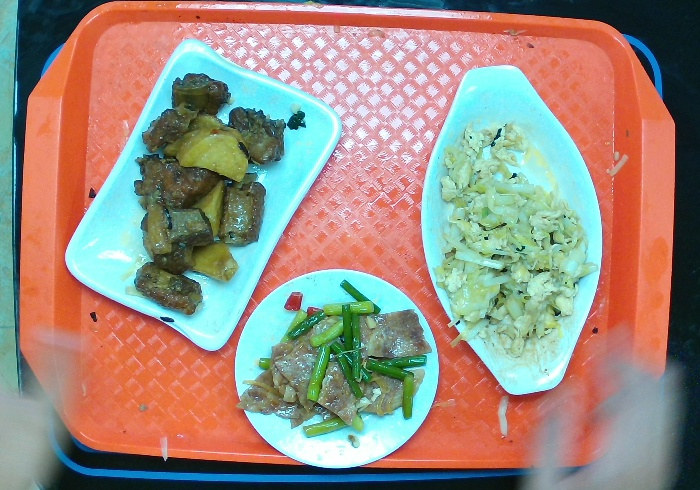RJxy-Si_Fang_Ao_Bian_Wan: (63, 37, 343, 352)
RJxy-Xiao_Yuan_Die: (232, 266, 441, 469)
RJxy-Yu_Pan: (419, 62, 603, 396)
